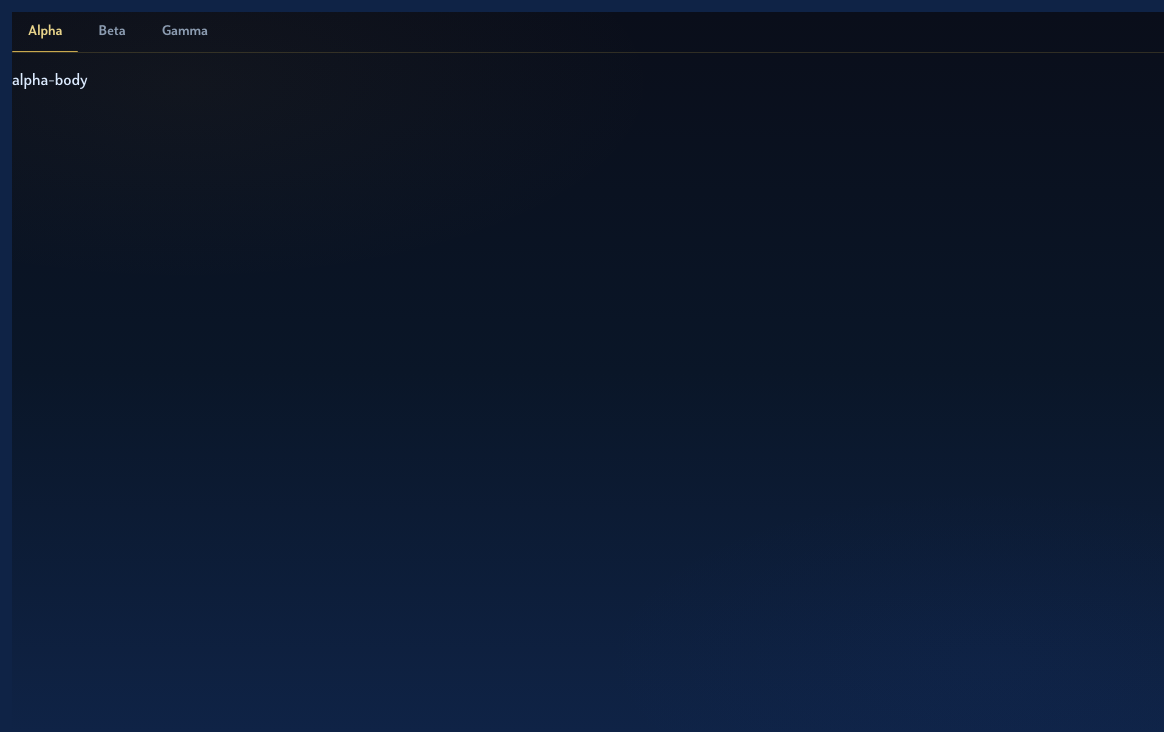
Scenario: CanonicalTabs — uncontrolled mode › maintains internal state across clicks
The width and height of the screenshot is (1164, 732).
Click the tab "Beta": (112, 32) [82, 12, 142, 52]
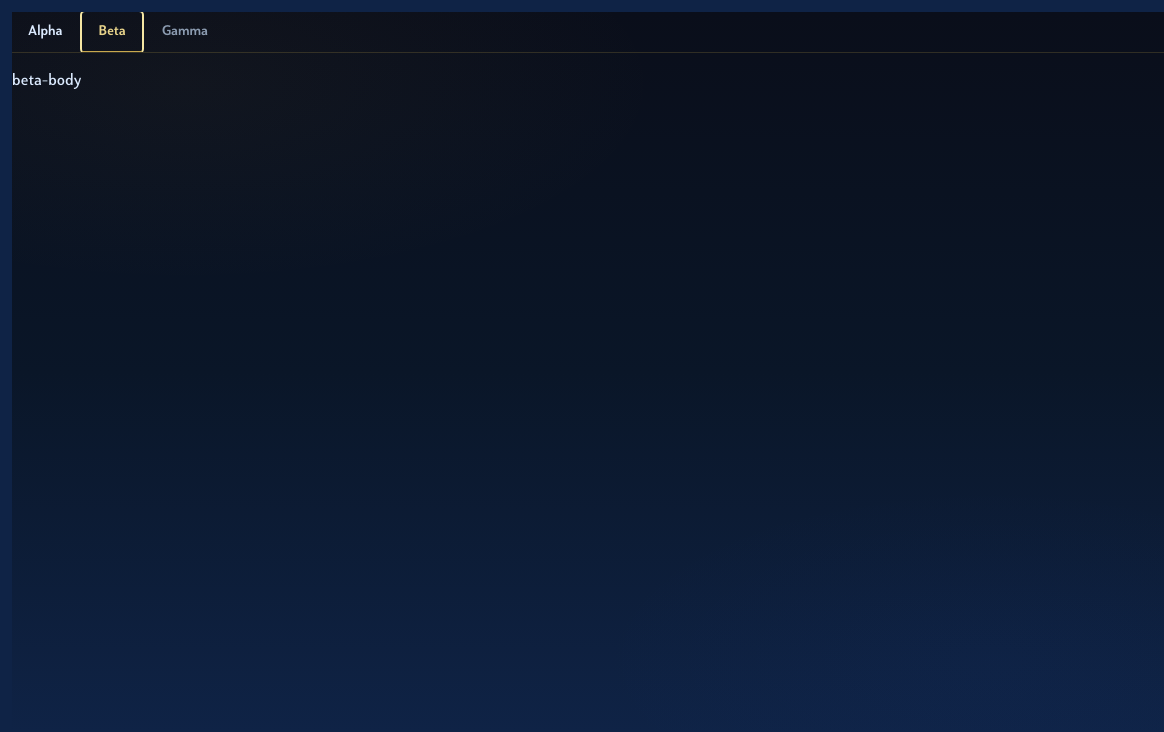
Now the text "beta-body" is shown, box [12, 73, 81, 89]
Click the tab "Gamma": (185, 32) [146, 12, 224, 52]
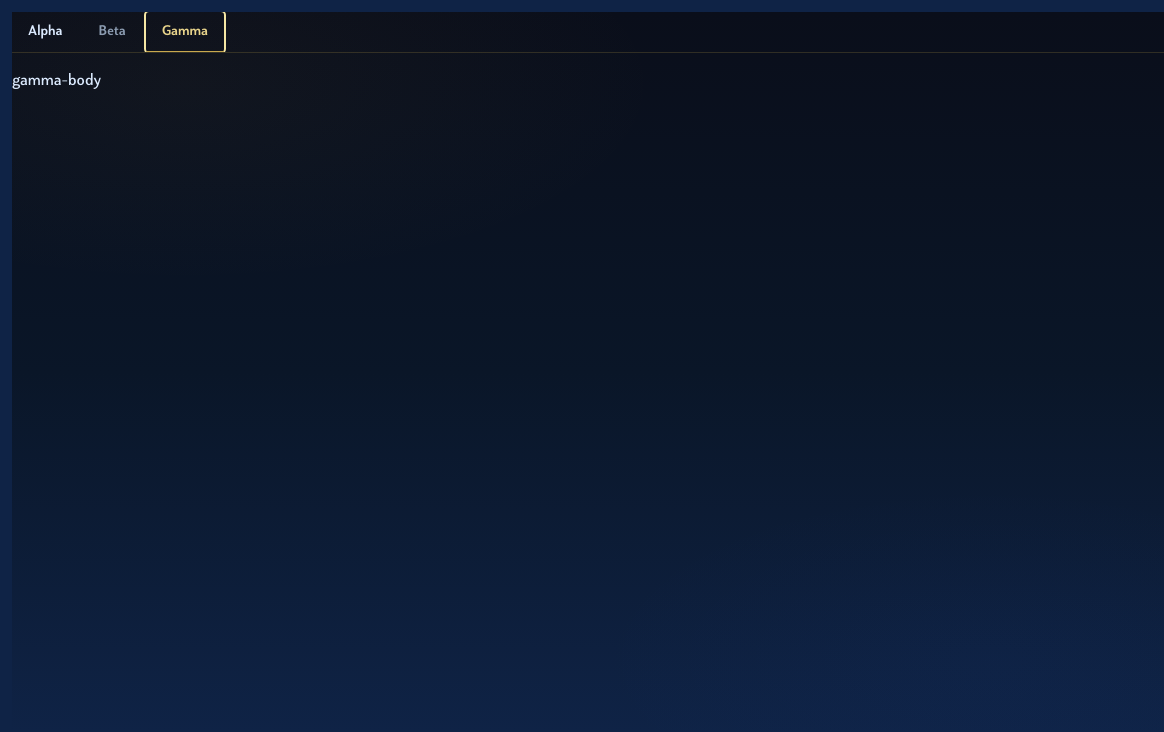
Now the text "gamma-body" is shown, box [12, 73, 101, 89]
